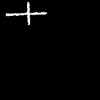single_crochet: (6, 2, 46, 24)
